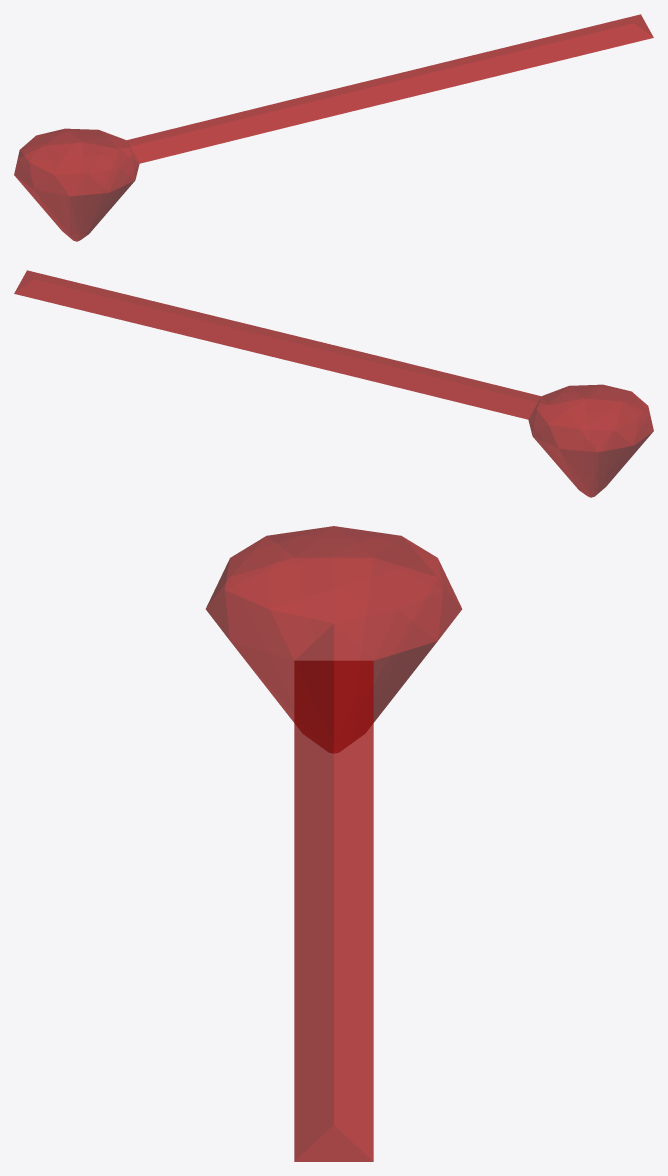
Rendered from lazer3.obj.
3 renders of one model, top to bottom at view 1: azimuth 30°, elevation 25°; view 2: azimuth 150°, elevation 25°; view 3: azimuth 270°, elevation 25°, orthographic. The views are drawn at different scales.
Parts seen in each view (by area): view 1: dimonda_Icosphere; view 2: dimonda_Icosphere; view 3: dimonda_Icosphere.
Boxes of the visible parts, x1=… form: dimonda_Icosphere: x1=14, y1=14, x2=653, y2=241; dimonda_Icosphere: x1=14, y1=270, x2=653, y2=497; dimonda_Icosphere: x1=205, y1=526, x2=462, y2=1161.
Size of the model in its own units: 3 by 0.4597 by 0.5382.
